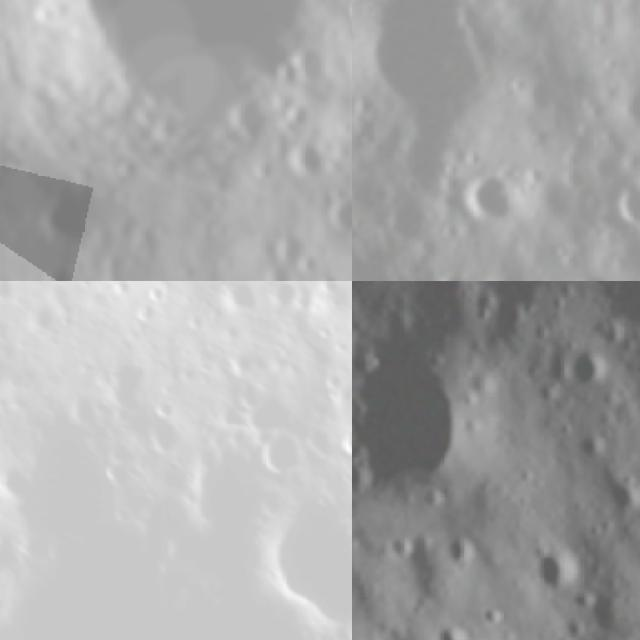crater: (0, 0, 352, 228), (352, 317, 514, 537), (254, 491, 352, 623), (29, 175, 114, 255), (450, 160, 530, 238), (543, 332, 623, 408), (522, 524, 588, 596), (373, 190, 442, 257), (3, 252, 149, 281), (600, 74, 640, 147), (439, 524, 485, 574), (595, 470, 640, 519), (553, 159, 600, 205), (609, 176, 640, 242), (586, 148, 629, 191), (255, 424, 298, 465), (419, 611, 476, 640), (208, 281, 257, 311), (0, 456, 35, 496), (459, 281, 591, 291), (424, 259, 479, 281), (60, 394, 101, 423), (147, 413, 176, 453), (556, 265, 625, 281), (562, 281, 640, 294), (223, 346, 256, 375), (265, 281, 299, 306), (26, 301, 58, 325), (96, 454, 125, 480), (591, 626, 640, 640), (106, 502, 132, 526), (320, 366, 345, 388), (179, 308, 205, 328), (0, 281, 24, 301), (337, 425, 352, 456), (143, 281, 164, 299), (311, 322, 333, 338), (103, 281, 128, 292)
